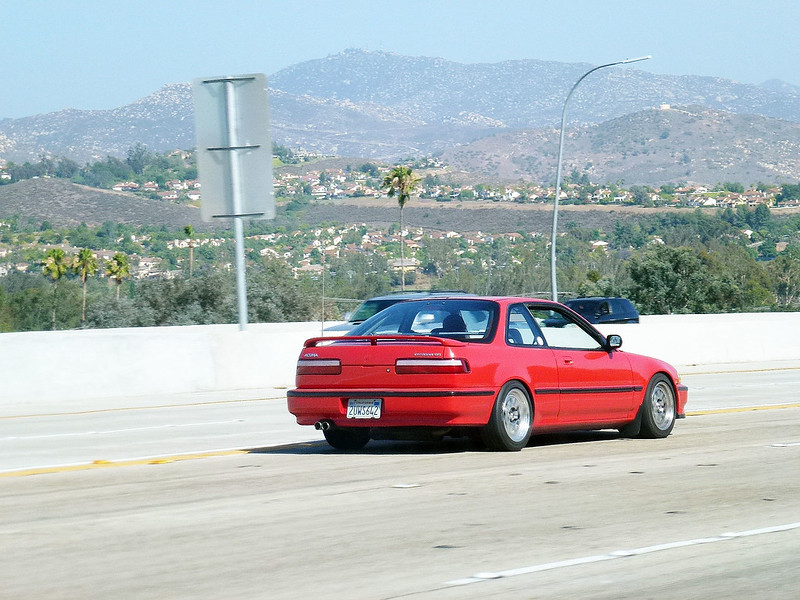car: (292, 299, 688, 460)
